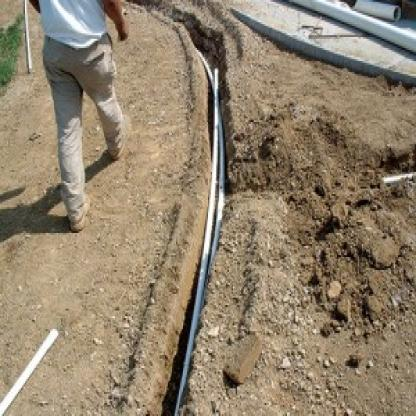PVC: (173, 64, 220, 412), (285, 0, 414, 58), (198, 47, 226, 280), (0, 331, 58, 414), (352, 2, 402, 20), (23, 2, 32, 74), (379, 168, 415, 183)
